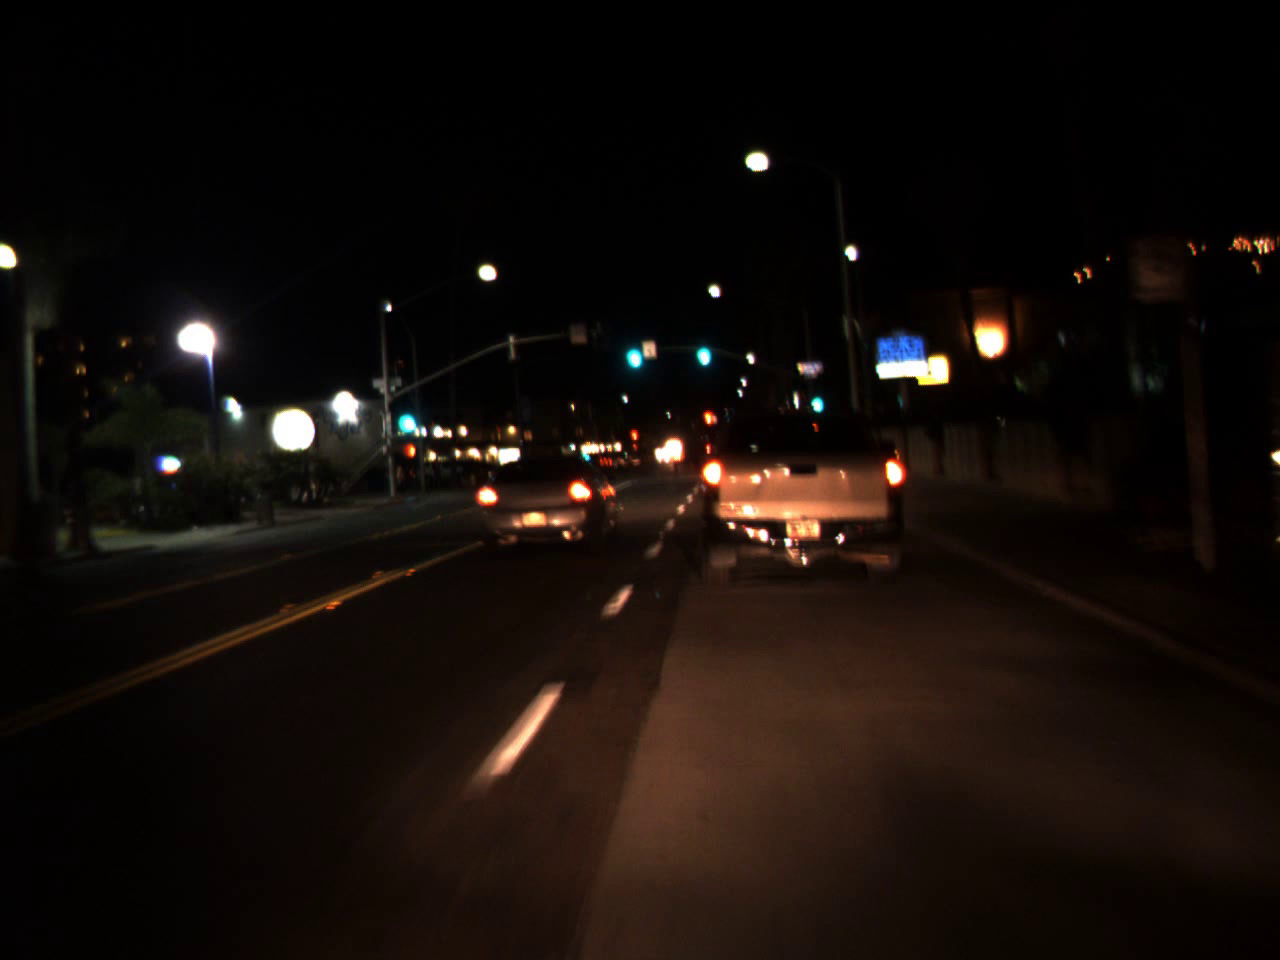go: (393, 392, 418, 440), (621, 324, 644, 375), (692, 326, 713, 371), (807, 378, 825, 417)
